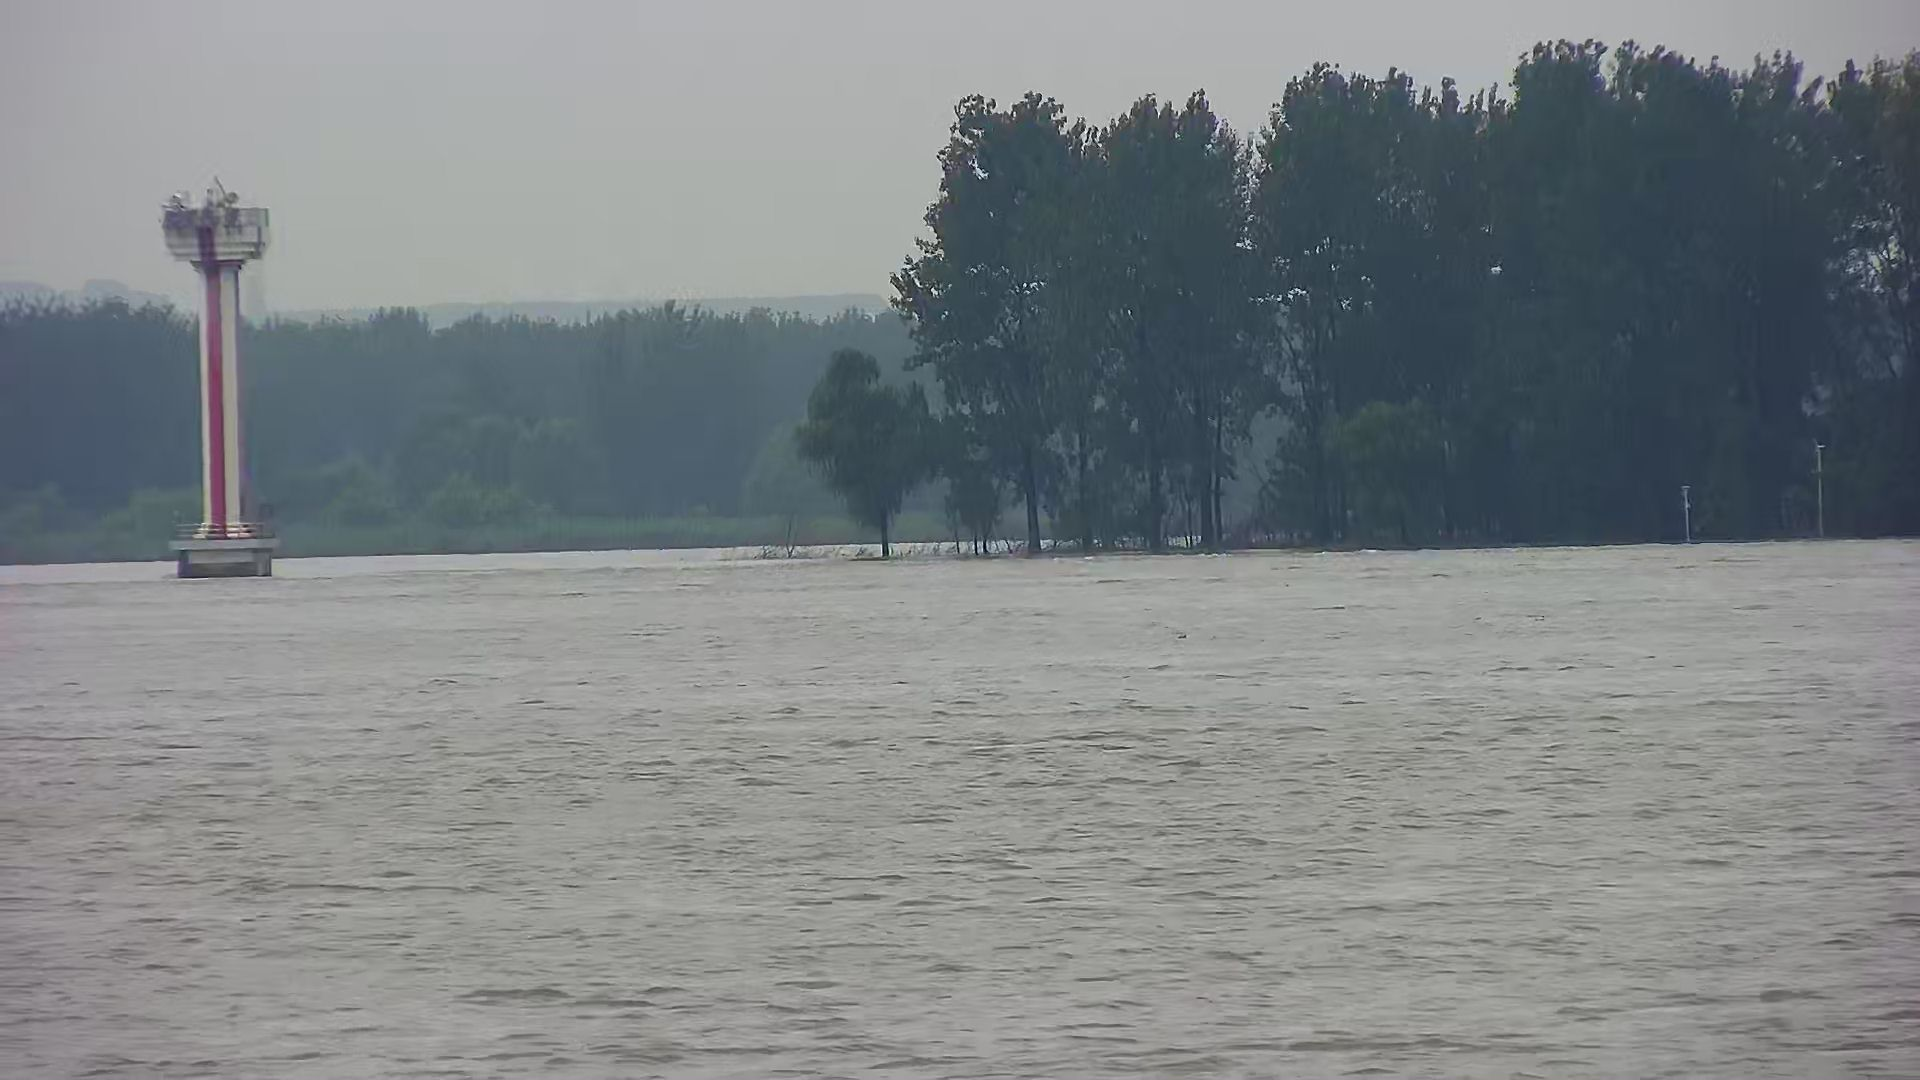platform: (152, 174, 287, 578)
tree: (1460, 46, 1768, 545), (1230, 63, 1458, 545), (1048, 73, 1262, 550), (1727, 42, 1920, 541), (882, 94, 1087, 549), (812, 351, 932, 549)
